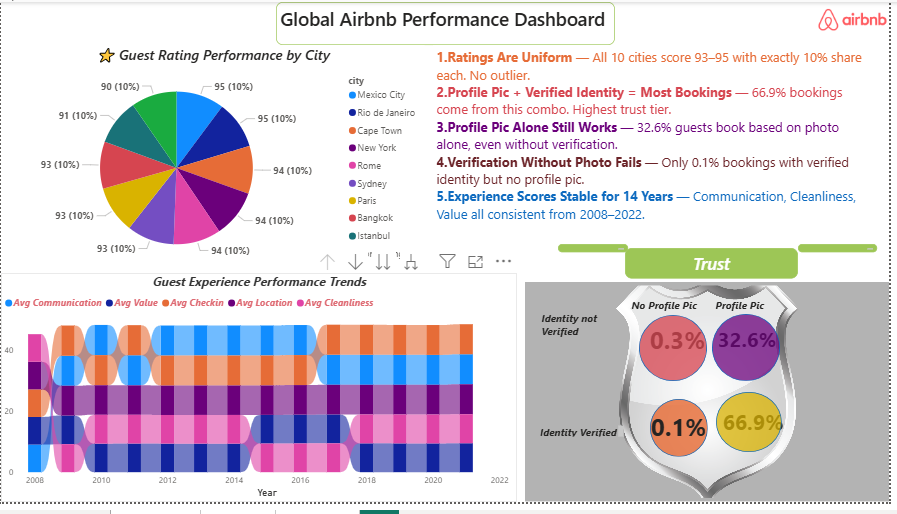

The page's visual inventory and layout, read from the dashboard file:
{"tool":"powerbi","page":{"name":"Experience & Trust","canvas":[1280,720],"ordinal":2},"visuals":[{"type":"textbox","box":[395.9,0,488.2,61.9],"z":0},{"type":"image","box":[1172.2,0,108,50.4],"z":1000},{"type":"pieChart","title":"⭐ Guest Rating Performance by City","fields":{"Category":["Listings.city"],"Y":["Listings.Avg Rating"]},"box":[0,62.6,610.3,327],"z":2000},{"type":"image","box":[754.2,403.7,525.8,316.1],"z":3000},{"type":"shape","box":[933.9,571.4,83.3,83.3],"z":4000},{"type":"card","fields":{"Values":["Listings.Verified_NotProfile %"]},"box":[901.2,553.5,148.6,115.9],"z":5000},{"type":"card","fields":{"Values":["Listings.NotVerfied_NotProfile %"]},"box":[919.2,450.6,111,71.8],"z":6000},{"type":"shape","box":[918.7,450.7,97.9,95],"z":7000},{"type":"card","fields":{"Values":["Listings.NotVerified_Profile %"]},"box":[1017.1,437.6,115.9,96.3],"z":8000},{"type":"shape","box":[1023.8,449.3,97.9,96.5],"z":9000},{"type":"textbox","box":[0,451,507,269],"z":10000},{"type":"card","fields":{"Values":["Listings.Verified_Profile %"]},"box":[1026.9,561.6,112.7,86.5],"z":11000},{"type":"shape","box":[1030.2,561.6,94.7,86.5],"z":12000},{"type":"textbox","box":[771.8,604.8,129.6,25.9],"z":13000},{"type":"textbox","box":[773.3,439.2,92.2,60.5],"z":14000},{"type":"textbox","box":[902.9,420.5,115.2,30.2],"z":15000},{"type":"textbox","box":[1023.8,420.5,87.8,30.2],"z":16000},{"type":"textbox","box":[898.2,353.6,248.8,43.8],"z":17000},{"type":"textbox","box":[1147.7,348.5,113.8,11.5],"z":18000},{"type":"textbox","box":[802.1,348.5,100.8,11.5],"z":19000},{"type":"ribbonChart","title":"Guest Experience Performance Trends","fields":{"Category":["Reviews.date.Variation.Date Hierarchy.Year","Reviews.date.Variation.Date Hierarchy.Month"],"Y":["Listings.Avg Communication","Listings.Avg Value","Listings.Avg Checkin","Listings.Avg Location","Listings.Avg Cleanliness"]},"box":[0,389.6,743.3,330.2],"z":20000},{"type":"textbox","box":[622.8,62.6,633.7,267.6],"z":21000}]}

Visuals, with their boxes in screenshot pixels (x1, y1, x2, y2), scaled from the page's 1280x720 canvas onto the 897x514 screenshot:
textbox: box(277, 0, 620, 44)
image: box(821, 0, 896, 36)
"⭐ Guest Rating Performance by City" pieChart: box(0, 45, 428, 278)
image: box(529, 288, 896, 513)
shape: box(654, 408, 713, 467)
card - Listings.Verified_NotProfile %: box(632, 395, 736, 478)
card - Listings.NotVerfied_NotProfile %: box(644, 322, 722, 373)
shape: box(644, 322, 712, 390)
card - Listings.NotVerified_Profile %: box(713, 312, 794, 381)
shape: box(717, 321, 786, 390)
textbox: box(0, 322, 355, 513)
card - Listings.Verified_Profile %: box(720, 401, 799, 463)
shape: box(722, 401, 788, 463)
textbox: box(541, 432, 632, 450)
textbox: box(542, 314, 607, 357)
textbox: box(633, 300, 713, 322)
textbox: box(717, 300, 779, 322)
textbox: box(629, 252, 804, 284)
textbox: box(804, 249, 884, 257)
textbox: box(562, 249, 633, 257)
"Guest Experience Performance Trends" ribbonChart: box(0, 278, 521, 513)
textbox: box(436, 45, 881, 236)
